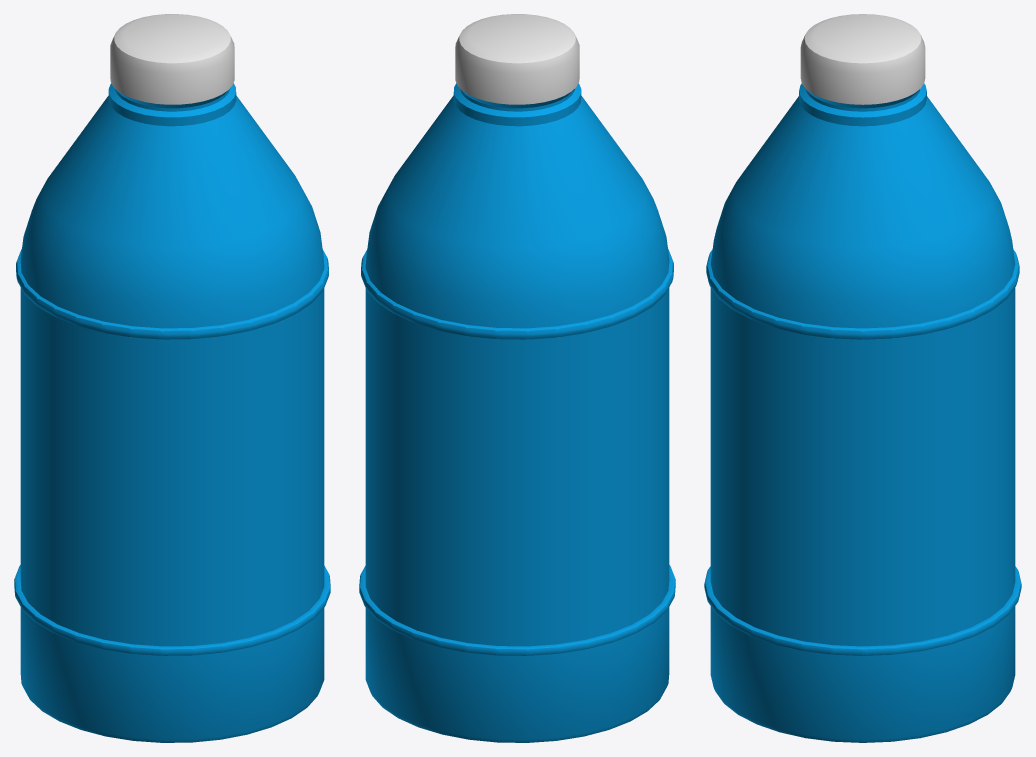
Rendered from bottle.fbx.
The picture shows the model from 3 angles, left to right: view 1: azimuth 30°, elevation 25°; view 2: azimuth 150°, elevation 25°; view 3: azimuth 270°, elevation 25°; orthographic projection.
Visible parts, largest first — view 1: Cylinder.005; view 2: Cylinder.005; view 3: Cylinder.005.
Boxes of the visible parts, bbox=[...] form: Cylinder.005: bbox=[14, 14, 330, 742]; Cylinder.005: bbox=[359, 14, 675, 742]; Cylinder.005: bbox=[704, 14, 1021, 742].
Bounding box in the file's own units: 40.34 × 90.7 × 40.34.
